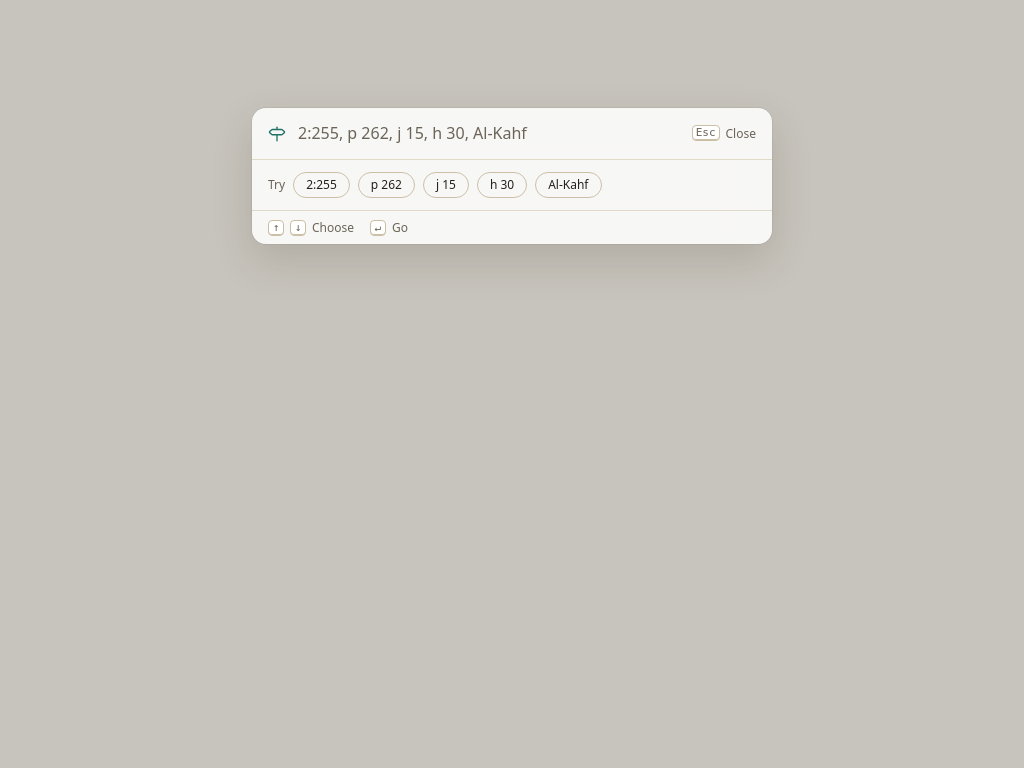
Scenario: Go to › says when nothing matches
Step 1. Replace the text in the dropdown labelled "2:255 , p 262, j 15, h 30, Al-Kahf" with "qqqzzz" → (489, 133), box [298,108,680,158]
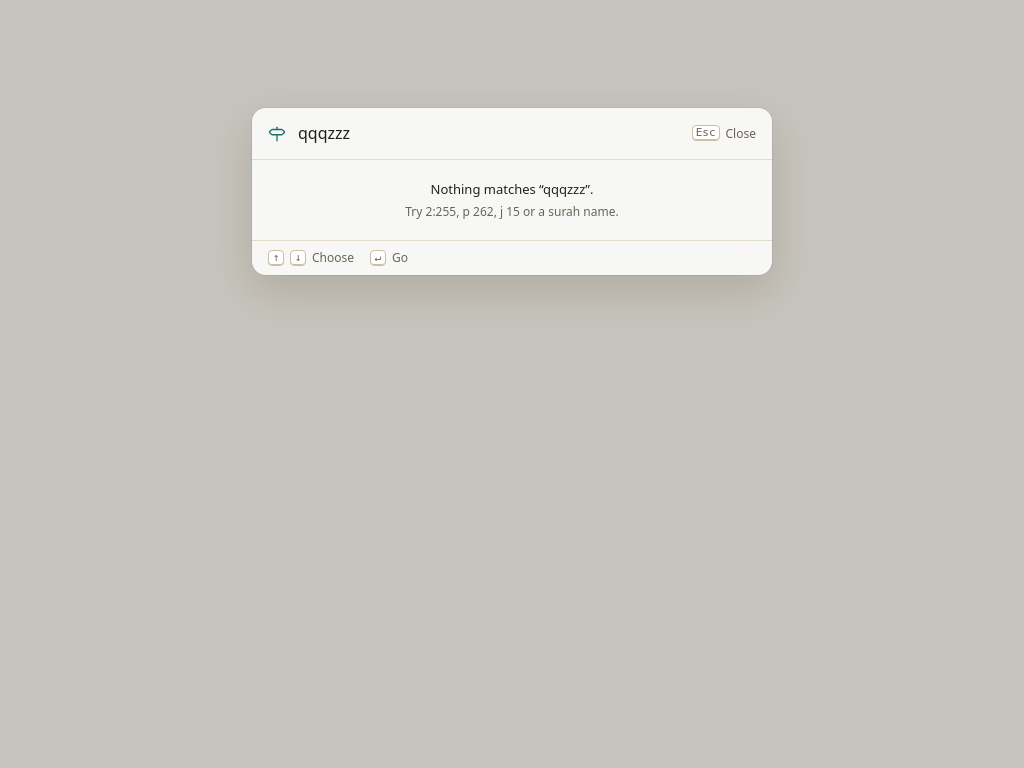
Check: the message with class "none" shows "Nothing matches “qqqzzz”.", box [430,180,594,198]
